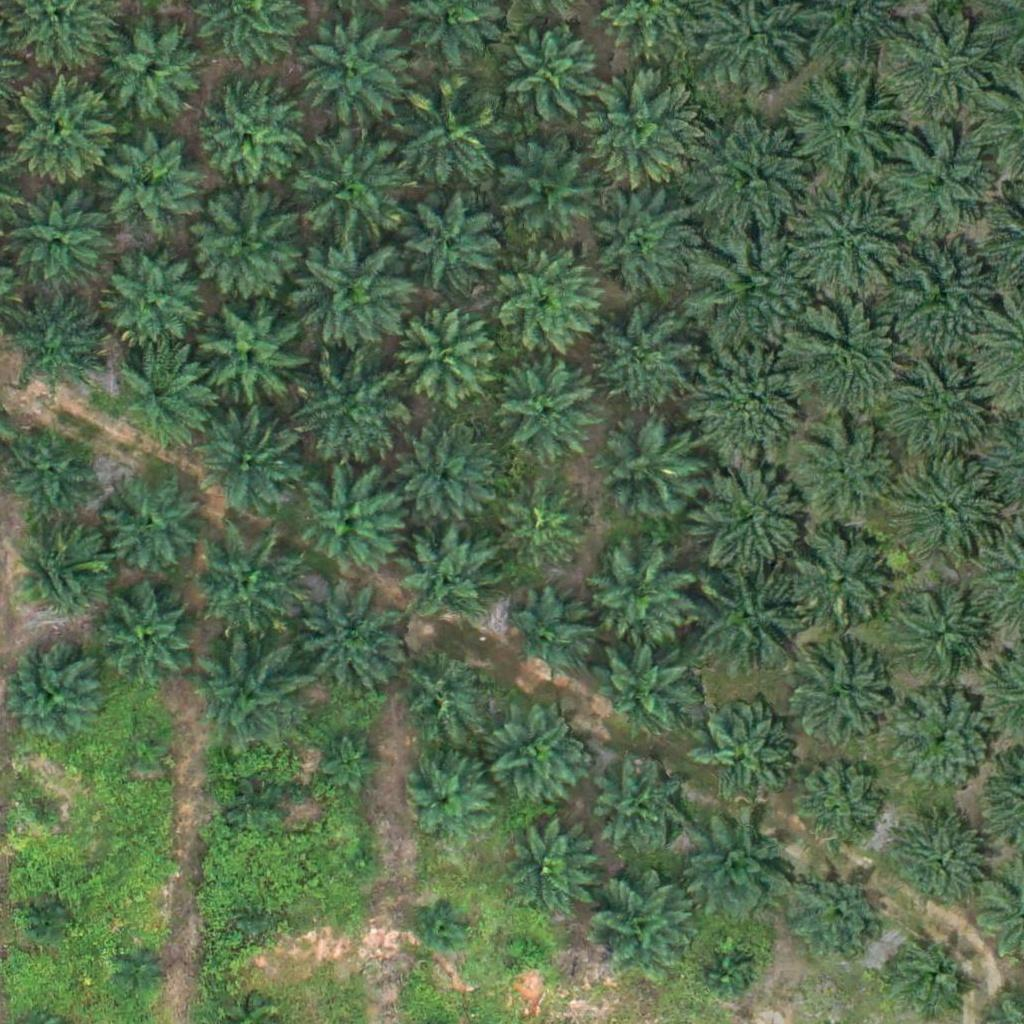Kelapa_Sawit: (291, 235, 416, 361), (580, 59, 705, 185), (576, 176, 701, 302), (693, 117, 818, 243), (693, 228, 818, 354), (690, 337, 815, 463), (781, 302, 906, 428), (788, 180, 913, 305), (685, 454, 810, 579), (189, 77, 302, 190), (192, 190, 305, 303), (294, 586, 407, 699), (292, 356, 405, 469), (785, 77, 898, 190), (885, 123, 998, 236), (886, 11, 999, 124), (694, 565, 807, 678), (685, 814, 798, 927), (296, 9, 408, 123), (294, 132, 406, 246), (391, 83, 503, 197), (491, 250, 603, 364), (6, 66, 118, 179), (193, 530, 305, 643), (189, 638, 301, 751), (12, 191, 112, 292), (104, 17, 204, 118), (102, 140, 202, 241), (501, 27, 601, 128), (592, 638, 692, 739), (487, 707, 587, 808), (398, 431, 498, 532), (398, 525, 498, 626), (391, 644, 491, 745), (299, 471, 399, 572), (203, 307, 303, 408), (196, 404, 296, 505), (97, 587, 197, 688), (104, 475, 204, 576), (113, 340, 213, 441), (100, 252, 200, 353), (4, 293, 104, 394), (4, 425, 104, 526), (8, 521, 108, 622), (693, 705, 793, 806), (790, 653, 890, 754), (788, 532, 888, 633), (793, 420, 893, 521), (901, 462, 1001, 563), (894, 691, 994, 792), (890, 816, 990, 917), (592, 879, 692, 980), (405, 188, 505, 288), (495, 142, 595, 242), (592, 314, 692, 414), (600, 422, 700, 522), (588, 548, 688, 648), (499, 364, 599, 464), (396, 309, 496, 409), (882, 355, 982, 455), (495, 819, 595, 919), (892, 242, 991, 342), (507, 592, 595, 680), (500, 484, 588, 572), (594, 762, 682, 850), (897, 596, 985, 684), (405, 759, 492, 848), (794, 870, 881, 959), (793, 763, 880, 851), (321, 727, 383, 790), (700, 947, 750, 998), (18, 898, 68, 949), (118, 942, 168, 993), (121, 726, 171, 776), (17, 791, 67, 841), (232, 785, 282, 835), (419, 898, 469, 948), (509, 933, 547, 971), (238, 900, 275, 938), (343, 845, 380, 883)
